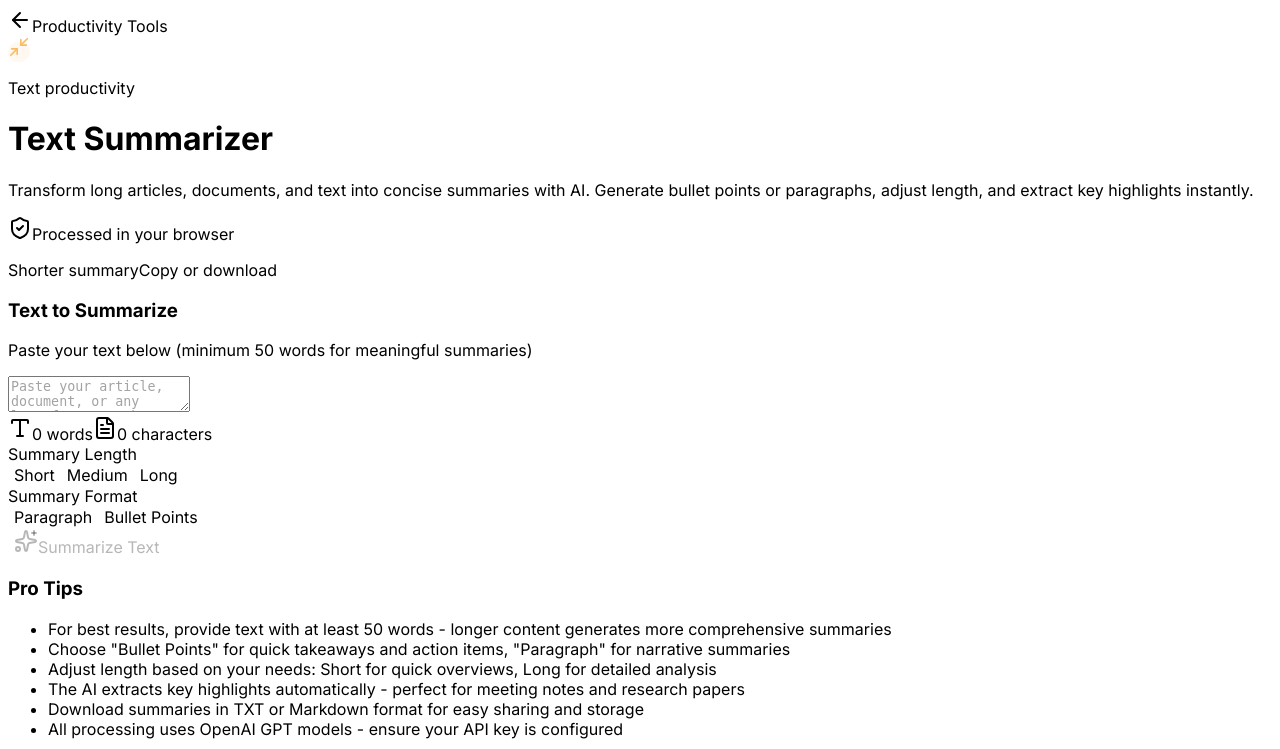
Test case: Text Summarizer - Summarization Tests › should generate summary successfully
The width and height of the screenshot is (1280, 749).
Type "Lorem ipsum dolor sit amet, consectetur adipiscing elit. Sed do eiusmod tempor incididunt ut labore et dolore magna aliqua. Ut enim ad minim veniam, quis nostrud exercitation ullamco laboris nisi ut a" into the text box with placeholder "Paste your article, document". click: (99, 394)
box: x1=8 y1=376 x2=190 y2=412
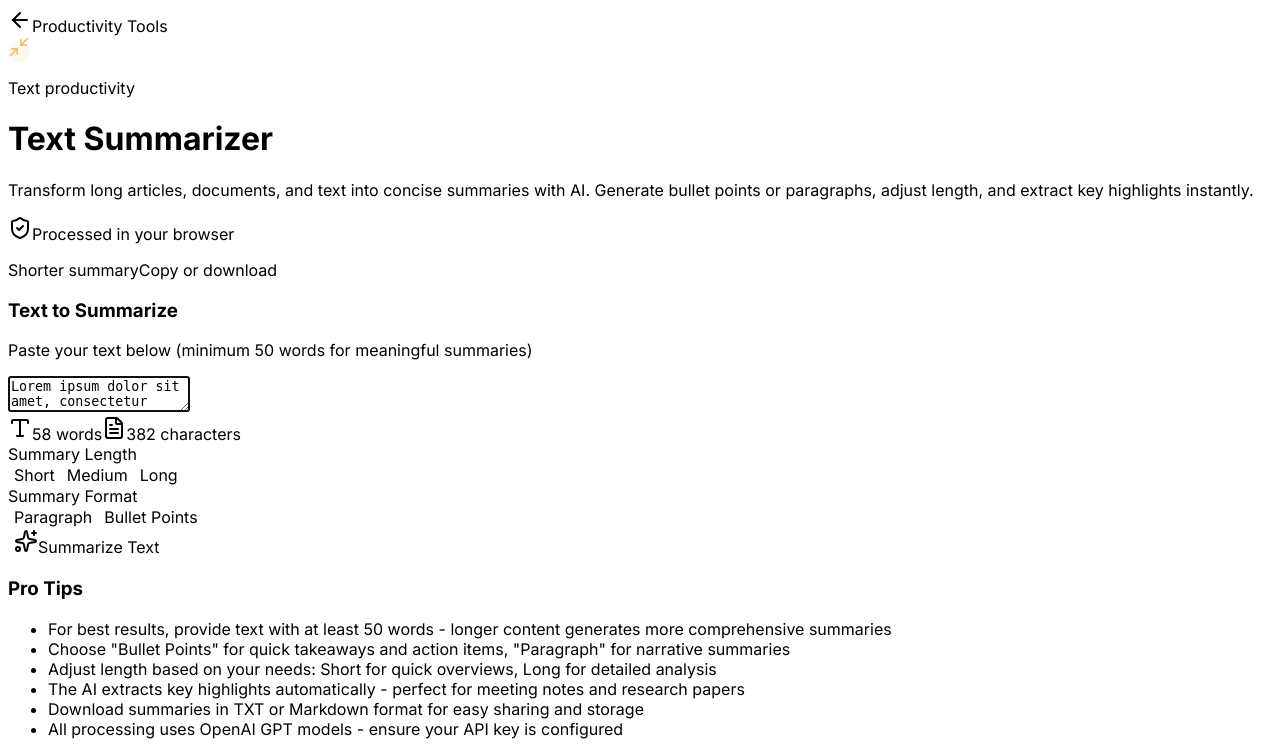
Click the button "Summarize Text". click: (87, 543)
box: x1=8 y1=528 x2=166 y2=558
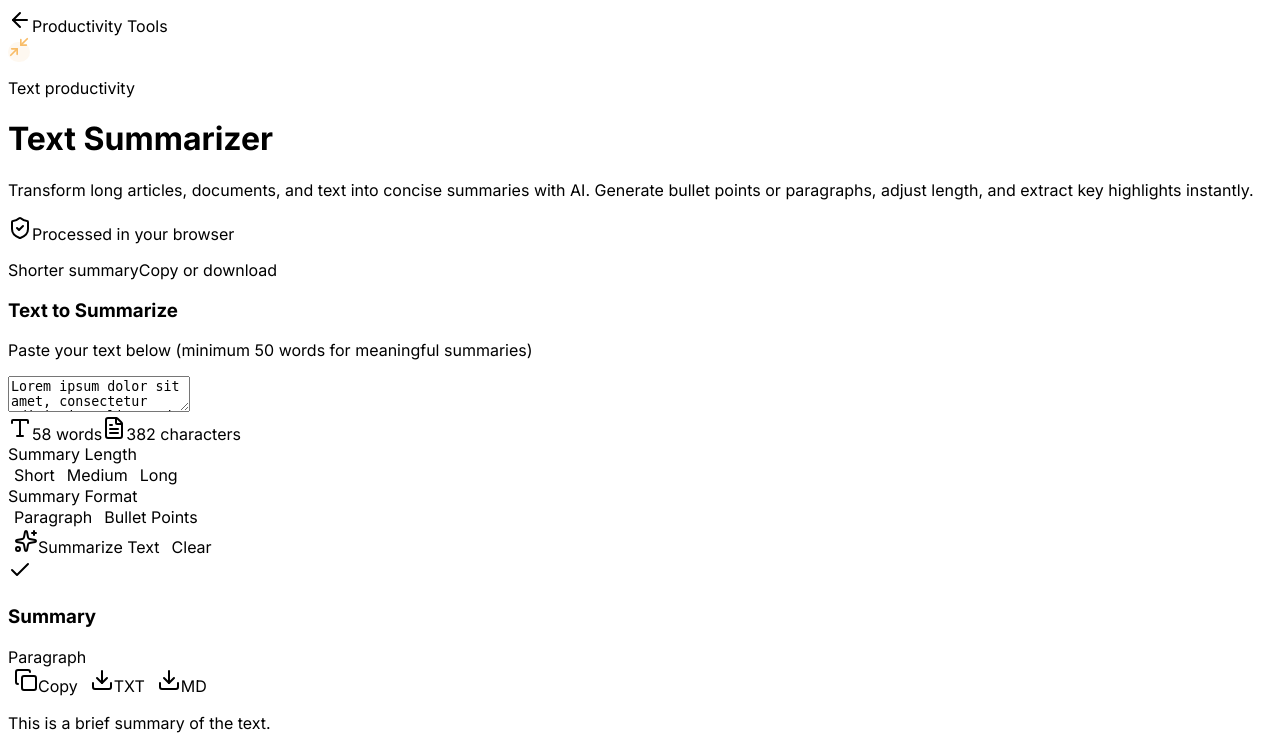
Expected: the text "This is a brief summary of the text." is shown, x1=8 y1=713 x2=271 y2=733
